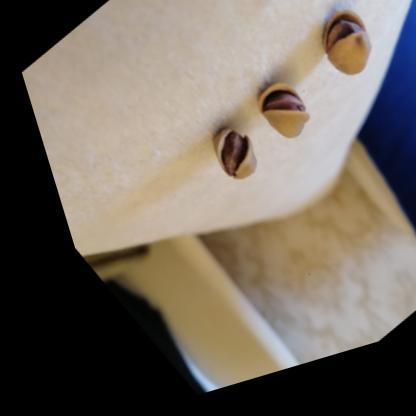pistachio: (317, 0, 372, 74), (257, 82, 308, 146), (214, 121, 257, 178)
